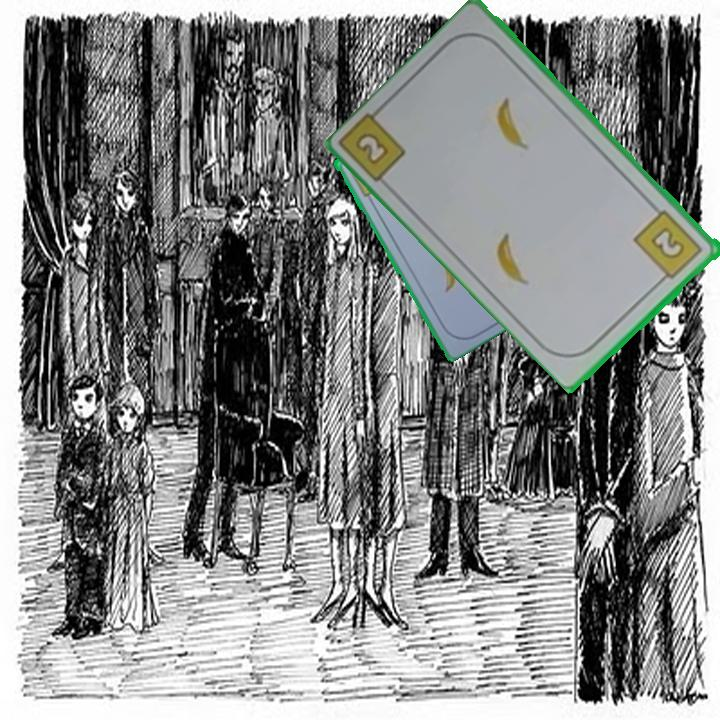2b: (630, 206, 706, 286), (355, 132, 388, 165)
